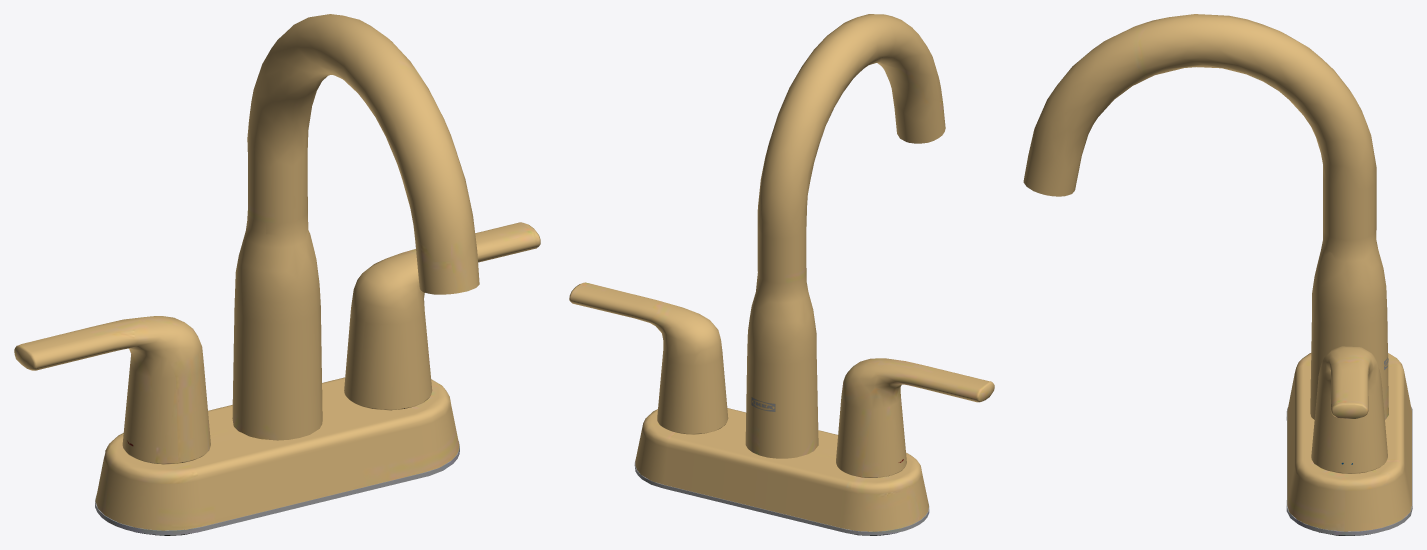
The model's file is macksjoen_centerset_sink_faucet_brass_co.glb.
3 renders of one model, left to right at view 1: azimuth 30°, elevation 25°; view 2: azimuth 150°, elevation 25°; view 3: azimuth 270°, elevation 25°, orthographic. The views are drawn at different scales.
Parts seen in each view (by area): view 1: ASY_ART_70601362_S01_NV01; view 2: ASY_ART_70601362_S01_NV01; view 3: ASY_ART_70601362_S01_NV01.
Part boxes in pixels (<box>): ASY_ART_70601362_S01_NV01: <box>14,14,540,535</box>; ASY_ART_70601362_S01_NV01: <box>569,14,994,535</box>; ASY_ART_70601362_S01_NV01: <box>1023,14,1412,535</box>.
Size of the model in its own units: 0.2359 by 0.2266 by 0.1779.
Materials: 2 (2 with a texture image).
